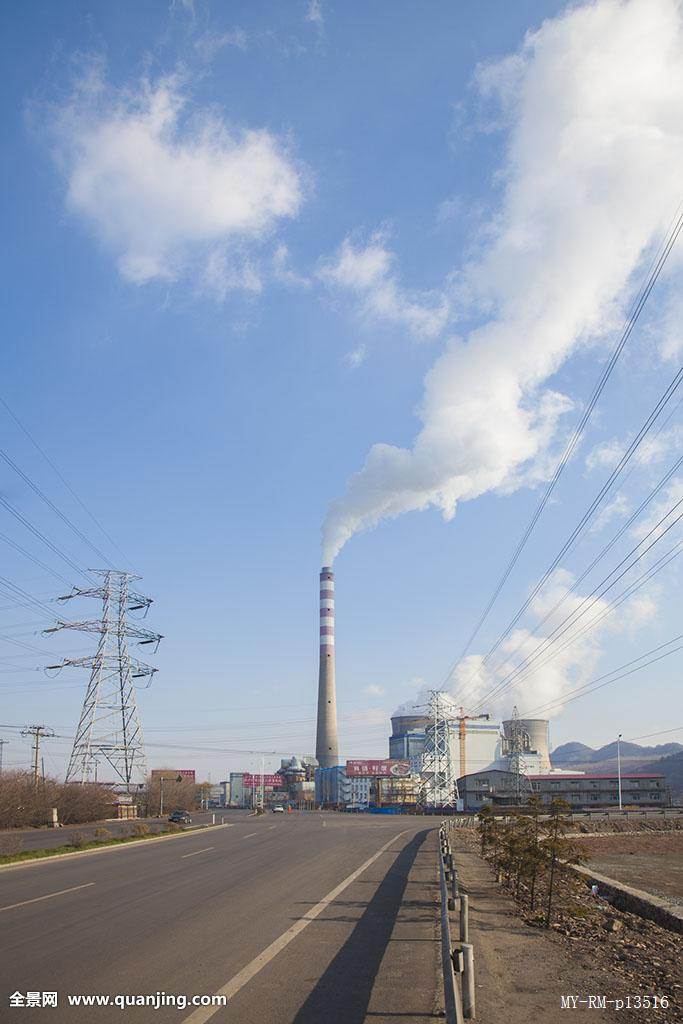dust: (298, 325, 509, 581), (364, 589, 623, 738)
